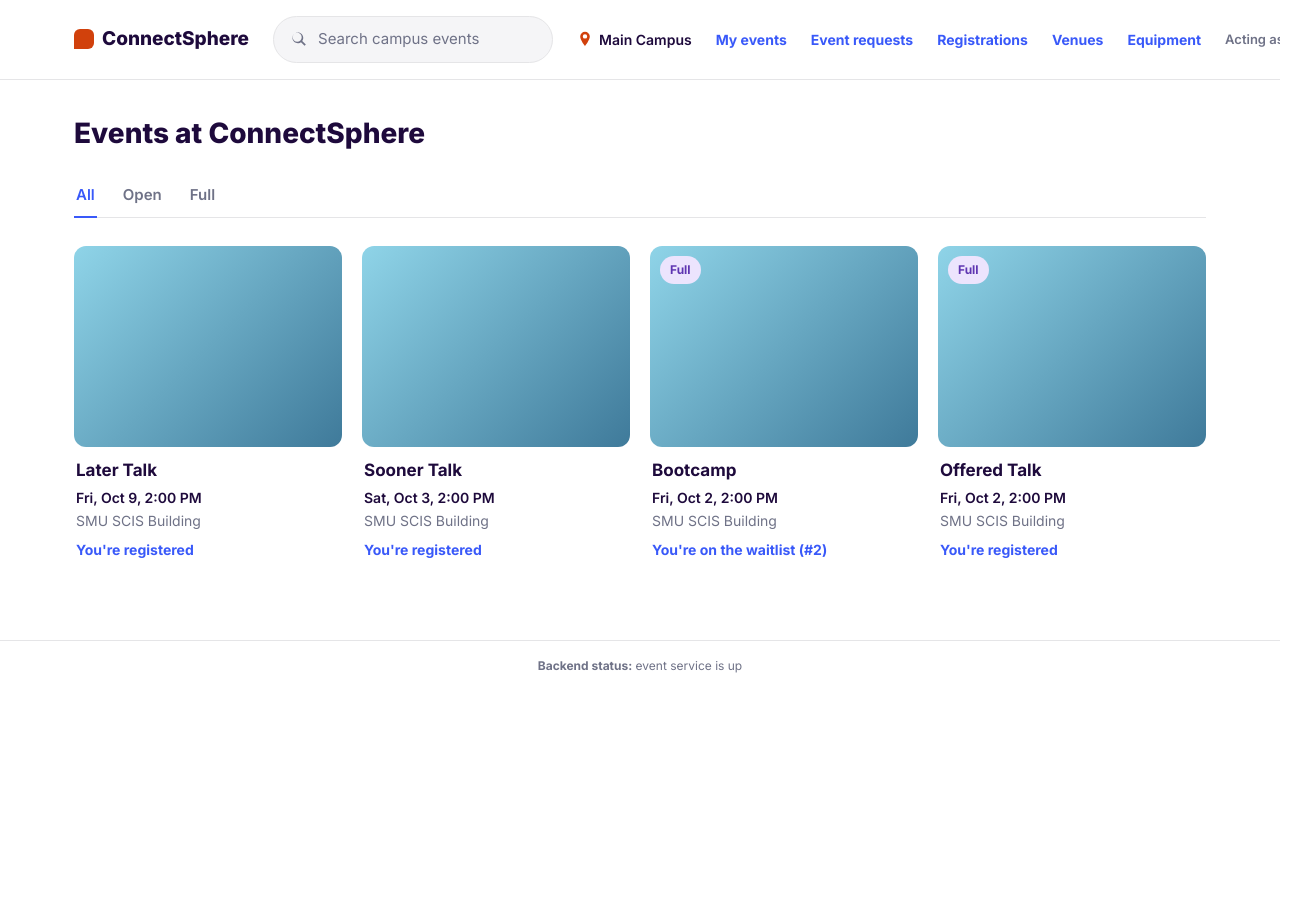
Test case: register → My events → withdraw (US3, US11, US7) › lists sections in order — Place available, Confirmed, Waitlisted — soonest first (TC-US11-04, 06)
Click the button "My events". click: (751, 39)
box: x1=716 y1=29 x2=787 y2=50
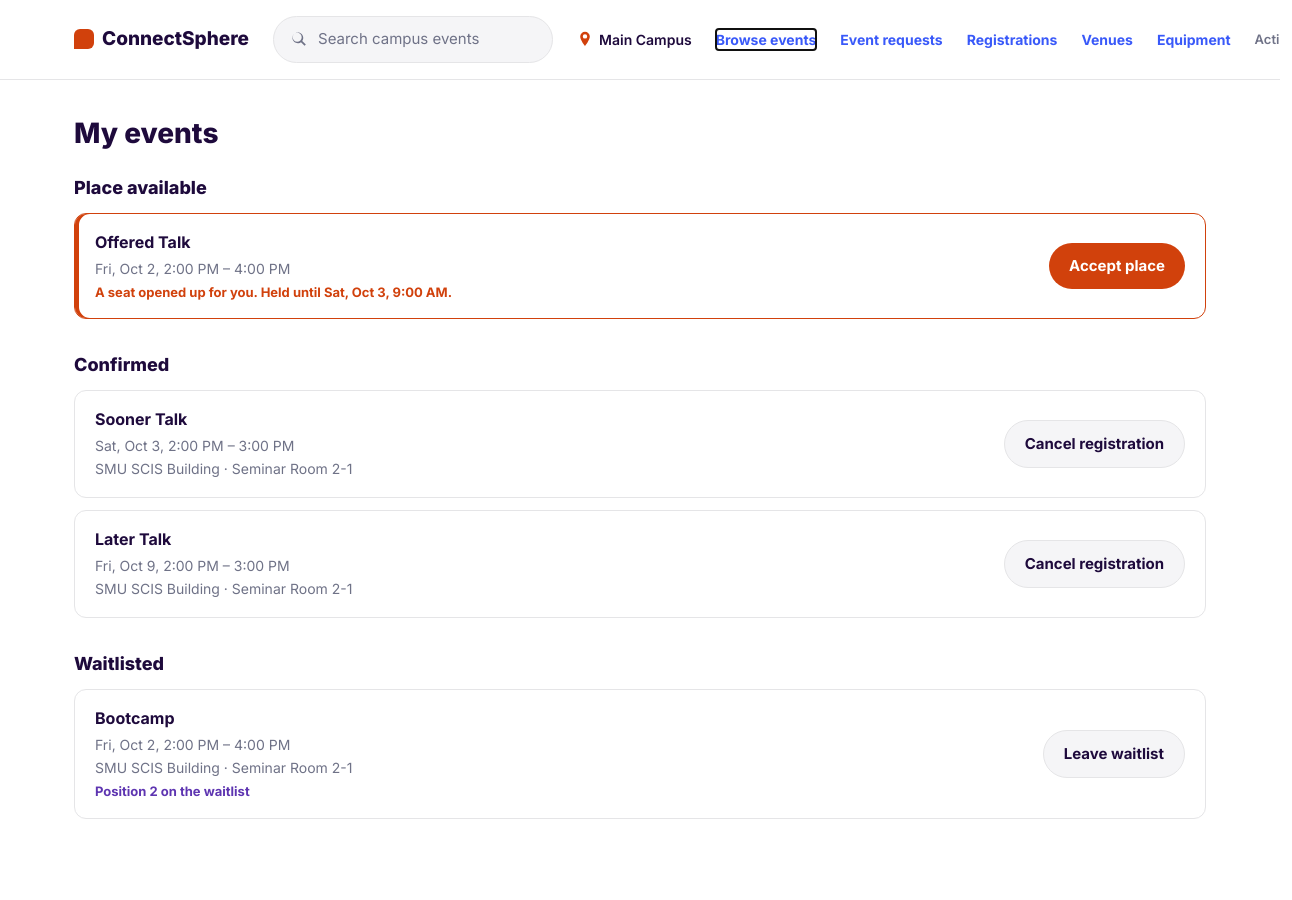
Check: the heading "My events" is shown, box x1=74 y1=116 x2=218 y2=150
Check: the headings read "Place available", "Confirmed", "Waitlisted", in this order, box x1=74 y1=176 x2=207 y2=198; x1=74 y1=354 x2=169 y2=375; x1=74 y1=653 x2=164 y2=674
Check: the list item that starts with "Bootcamp" shows "Position 2 on the waitlist", box x1=74 y1=689 x2=1206 y2=818
